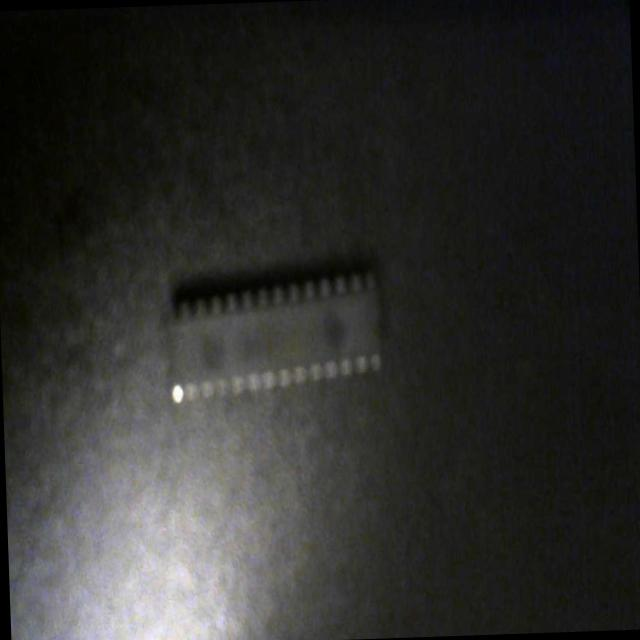atmega: (162, 253, 389, 412)
